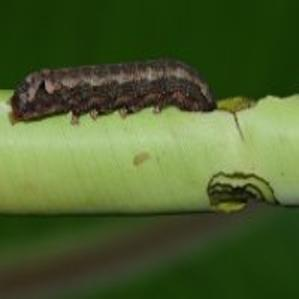Tobacco cutworm: (4, 38, 236, 180)
